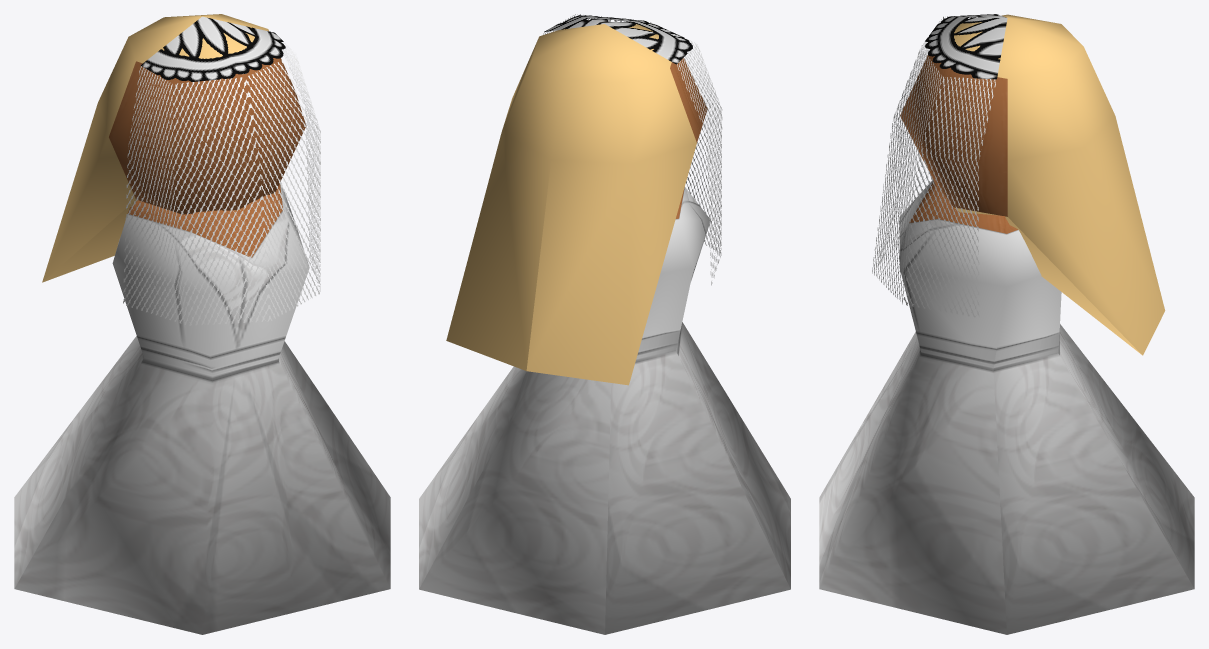
The model's file is Bride_D.FBX.
3 views of the same model, side by side, from view 1: azimuth 30°, elevation 25°; view 2: azimuth 150°, elevation 25°; view 3: azimuth 270°, elevation 25° (orthographic).
Parts seen in each view (by area): view 1: Bride; view 2: Bride; view 3: Bride.
Boxes of the visible parts, left/top/right/bottom form: Bride: left=14, top=14, right=390, bottom=634; Bride: left=419, top=14, right=790, bottom=634; Bride: left=819, top=14, right=1194, bottom=634.
Bounding box in the file's own units: 37.74 × 50.46 × 32.68.
